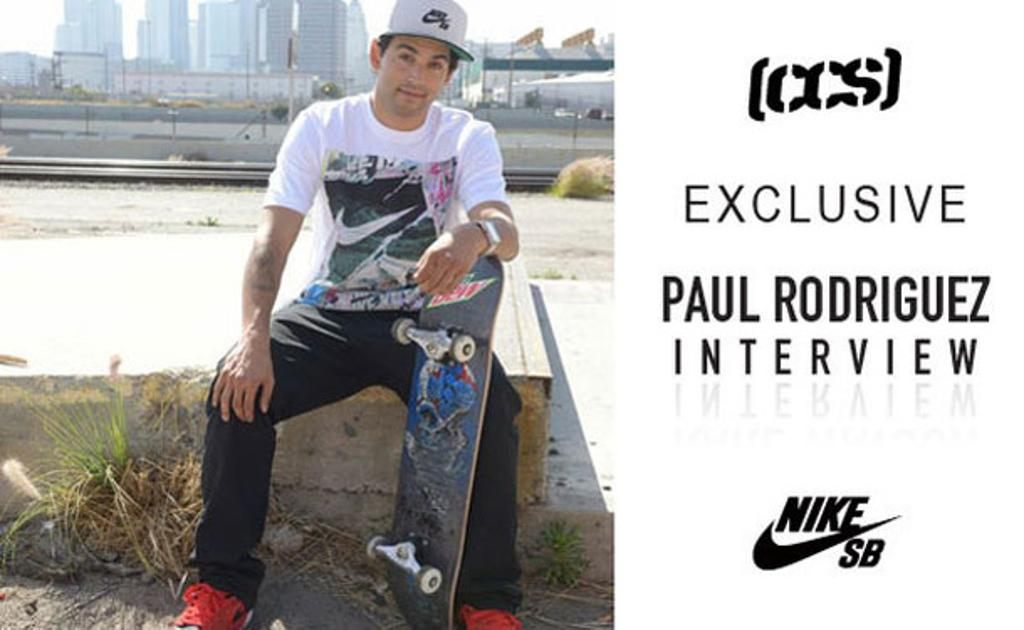face: (380, 30, 448, 108)
